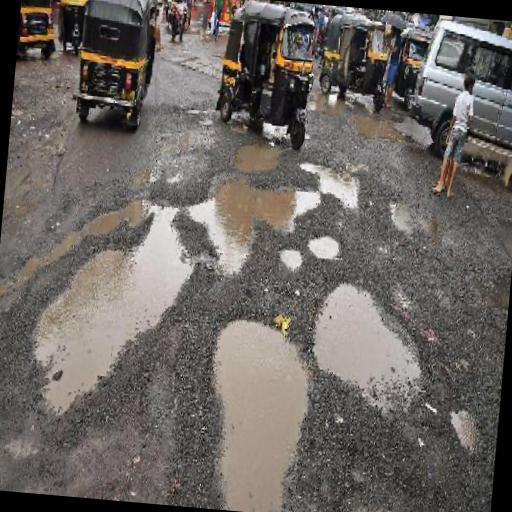pothole: (20, 176, 200, 426), (197, 310, 314, 512), (306, 275, 430, 414), (179, 168, 327, 282), (294, 155, 364, 210), (231, 138, 284, 178), (446, 402, 487, 452), (306, 228, 344, 260), (276, 244, 304, 268)
